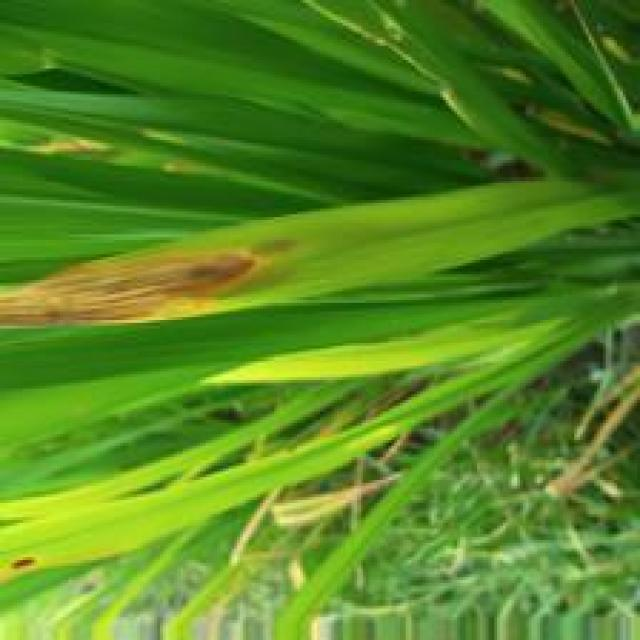Leaf_Scald: (0, 244, 270, 327)
